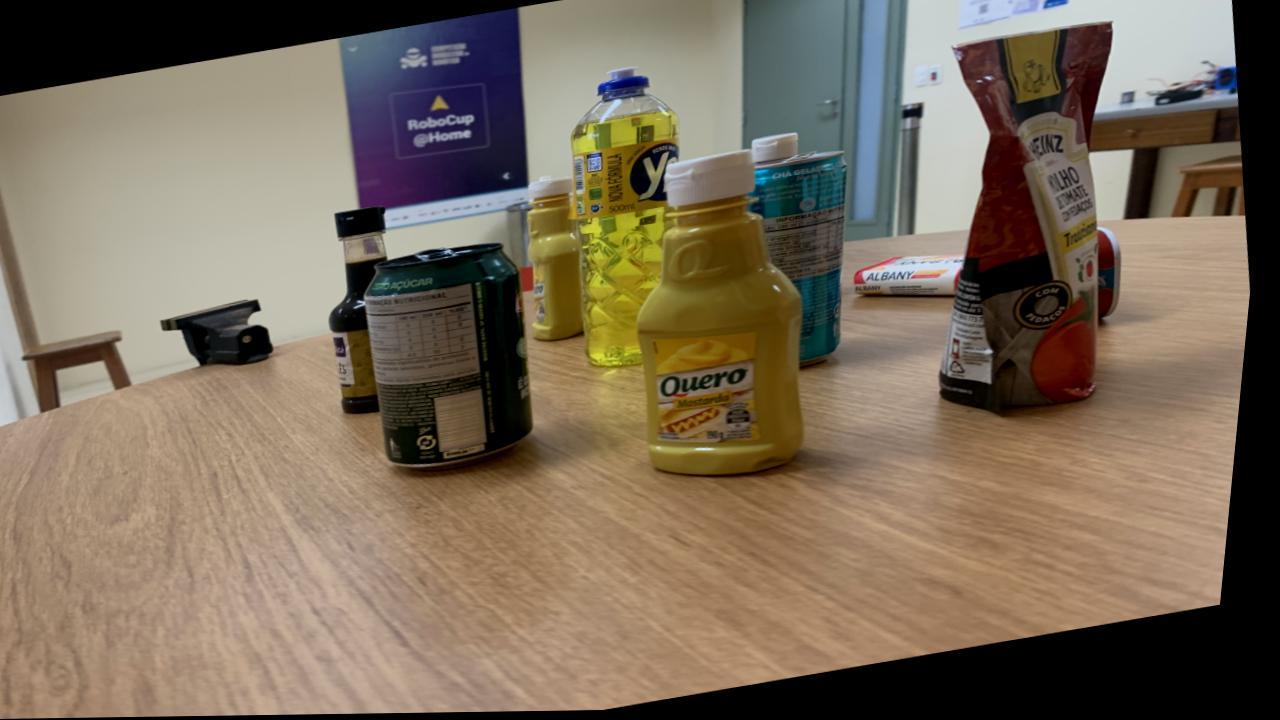Detergent-Cleanup_Items: (574, 69, 683, 369)
English_Sauce-Pantry_Items: (336, 206, 392, 415)
Guarana_Can-Drinks: (371, 244, 541, 471)
Ketchup-Pantry_Items: (755, 134, 802, 165)
Mustard-Pantry_Items: (643, 152, 813, 477), (533, 177, 591, 342)
Soap-Cleanup_Items: (860, 257, 970, 299), (1102, 230, 1127, 321)
Tea-Drinks: (755, 154, 851, 363)
Tomato_Sauce-Pantry_Items: (947, 25, 1114, 414)
Tuna_Can-Pantry_Items: (1102, 230, 1128, 322)
